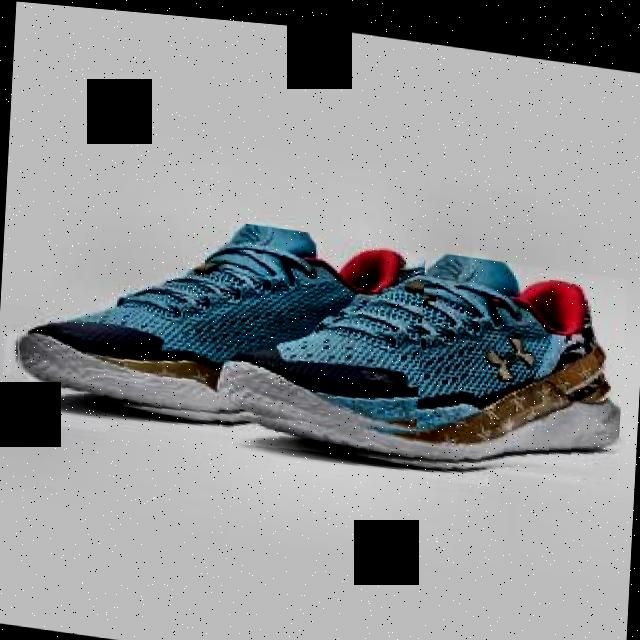shoe: (210, 217, 628, 487), (12, 191, 426, 445)
